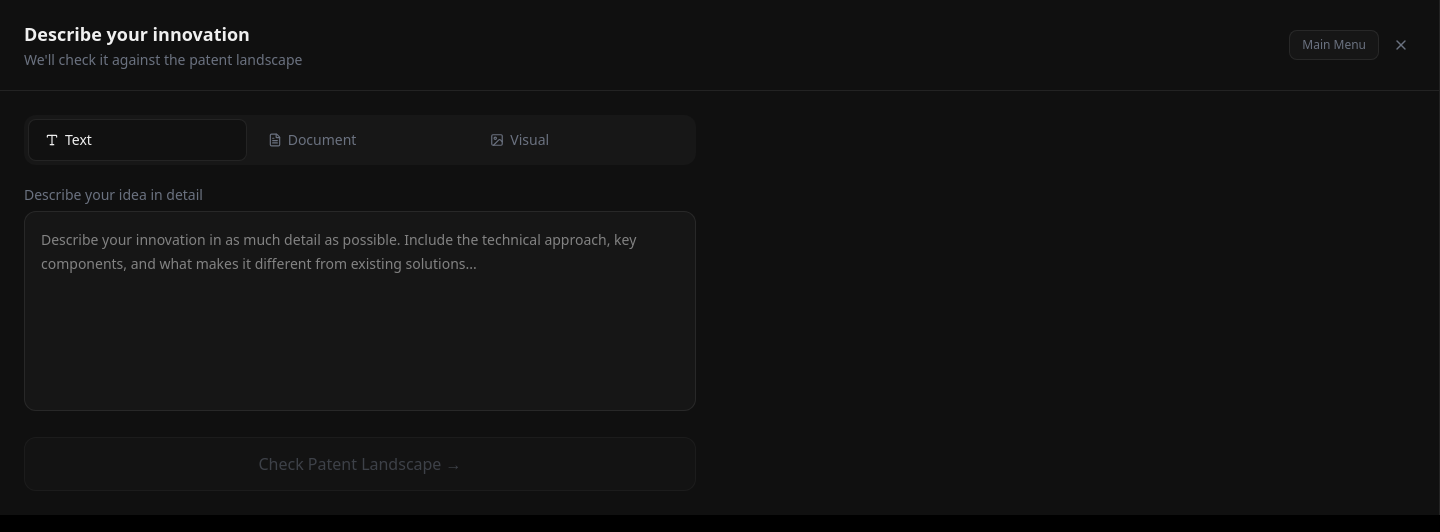
Test: IdeaInputPanel › back button returns to input step from config
The width and height of the screenshot is (1440, 532).
Step 1. Replace the text in the text box with placeholder "Describe your innovation in as much detail" with "Test idea" → (360, 311), box [24,211,696,411]
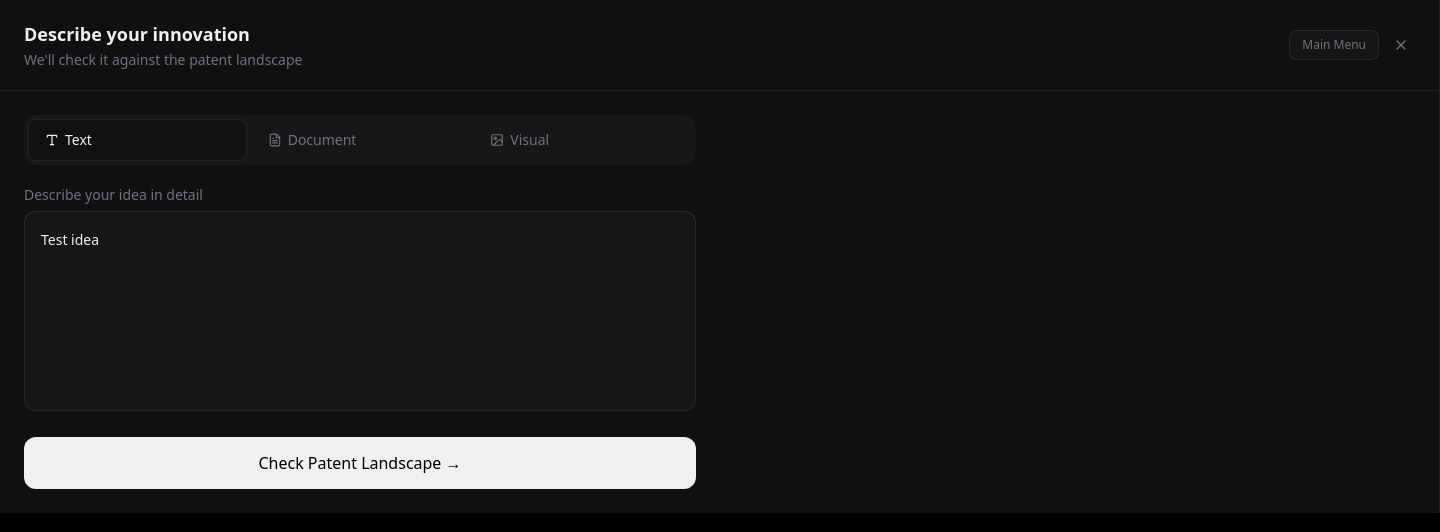
Step 2. Click the button "Check Patent Landscape →" → (360, 463), box [24,437,696,489]
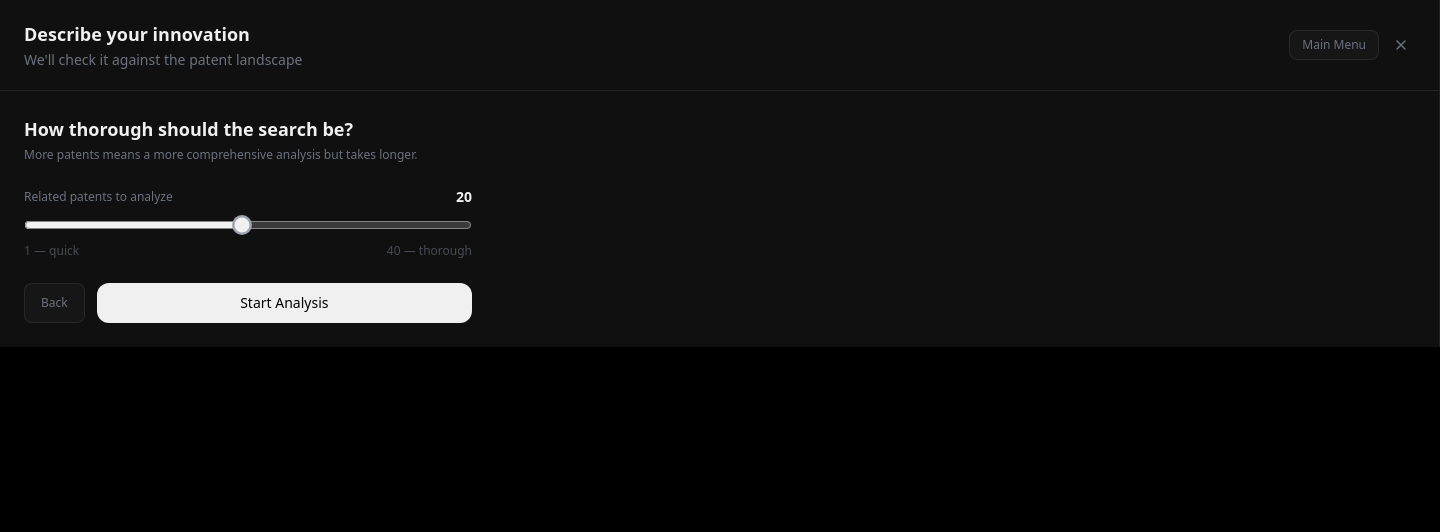
Now the button "Start Analysis" is shown, box [97,283,472,323]
Step 3. Click the button "Back" → (54, 303), box [24,283,85,323]
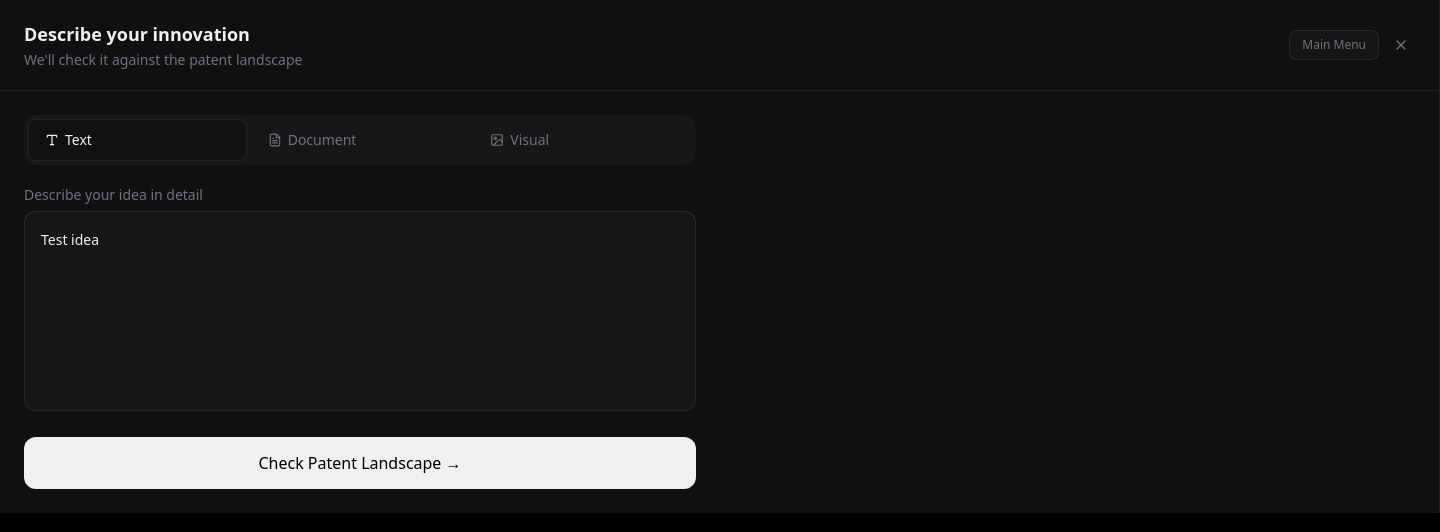
Now the text box with placeholder "Describe your innovation in as much detail" is shown, box [24,211,696,411]
